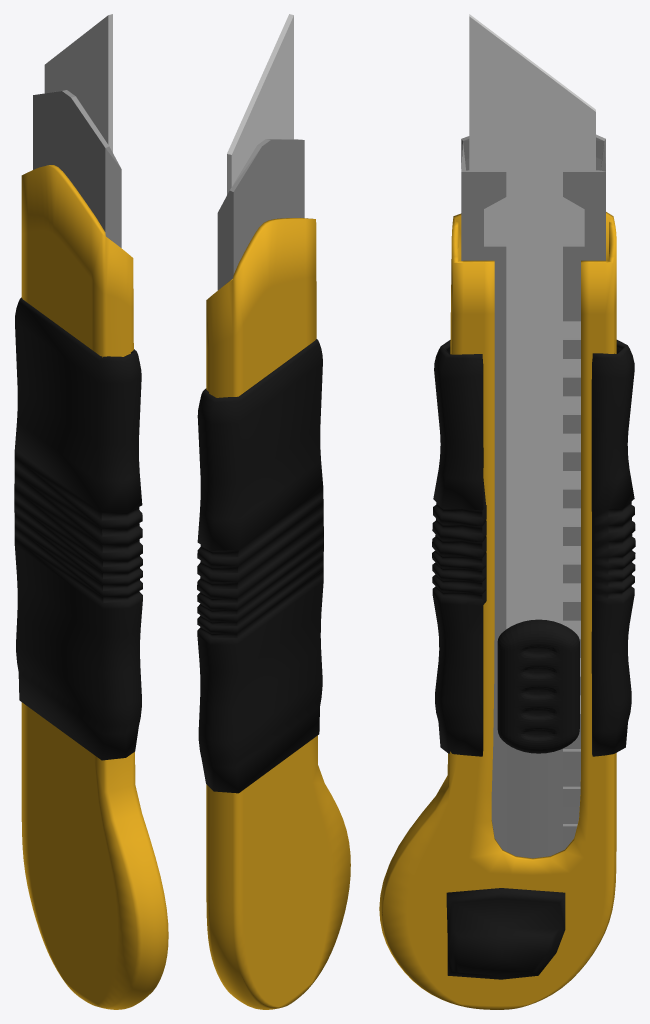
Rendered from Bisturi.dae.
The picture shows the model from 3 angles, left to right: view 1: azimuth 30°, elevation 25°; view 2: azimuth 150°, elevation 25°; view 3: azimuth 270°, elevation 25°; orthographic projection.
Visible parts, largest first — view 1: CuerpoAgarre, Cuerpo, basemetalica, Navaja; view 2: CuerpoAgarre, Cuerpo, basemetalica, Navaja; view 3: Cuerpo, Navaja, CuerpoAgarre, basemetalica, Seguro, Tapita.
Boxes of the visible parts, x1,y1,x2,y2 form: CuerpoAgarre: (14, 297, 142, 760); Cuerpo: (21, 165, 168, 1009); basemetalica: (33, 90, 121, 247); Navaja: (44, 14, 112, 152); CuerpoAgarre: (197, 339, 323, 793); Cuerpo: (206, 218, 350, 1009); basemetalica: (217, 139, 304, 290); Navaja: (227, 14, 293, 194); Cuerpo: (379, 212, 616, 1009); Navaja: (469, 14, 595, 711); CuerpoAgarre: (432, 340, 635, 756); basemetalica: (461, 134, 605, 858); Seguro: (497, 619, 579, 753); Tapita: (446, 888, 565, 979).
Bounding box in the file's own units: 0.1128 × 0.4507 × 1.93.
